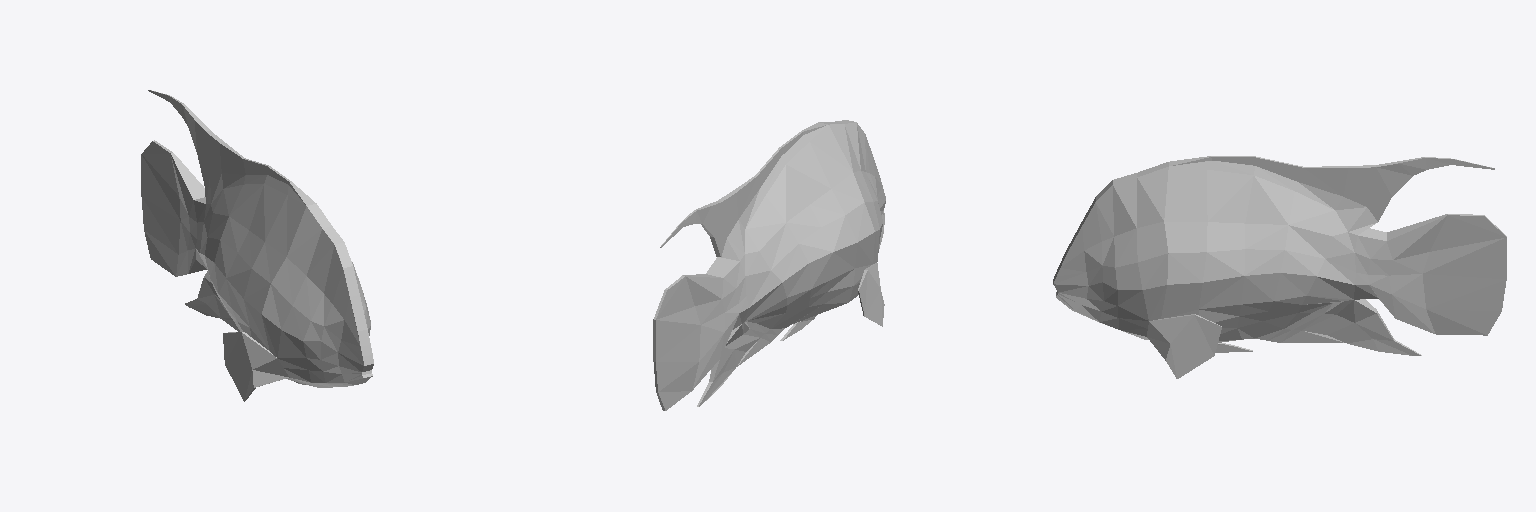
Rendered from fish6.obj.
3 views of the same model, side by side, from view 1: azimuth 30°, elevation 25°; view 2: azimuth 150°, elevation 25°; view 3: azimuth 270°, elevation 25° (orthographic).
Parts seen in each view (by area): view 1: TropicalFish06:TropicalFish06; view 2: TropicalFish06:TropicalFish06; view 3: TropicalFish06:TropicalFish06.
Boxes of the visible parts, x1=… form: TropicalFish06:TropicalFish06: x1=141, y1=90, x2=373, y2=401; TropicalFish06:TropicalFish06: x1=653, y1=120, x2=885, y2=410; TropicalFish06:TropicalFish06: x1=1053, y1=156, x2=1506, y2=378.
Bounding box in the file's own units: 2.73 × 4.06 × 8.39.